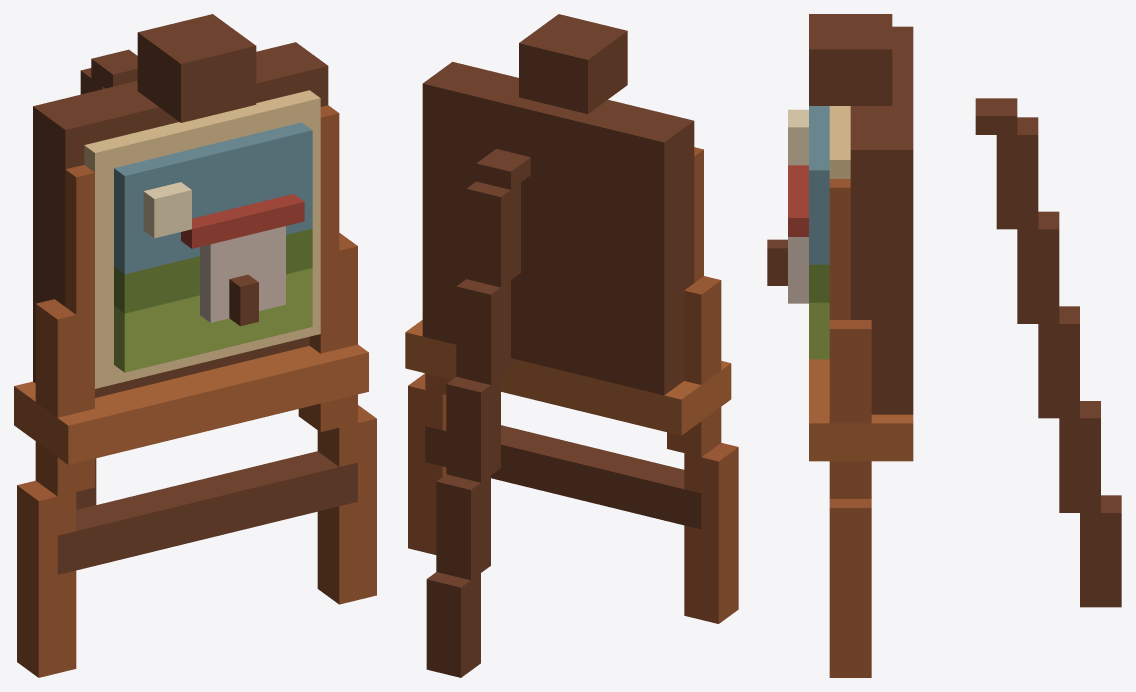
File: PaintingEasel_1x1.fbx
3 renders of one model, left to right at view 1: azimuth 30°, elevation 25°; view 2: azimuth 150°, elevation 25°; view 3: azimuth 270°, elevation 25°, orthographic. The views are drawn at different scales.
Visible parts, largest first — view 1: Easel_Front_Legs, Easel_Canvas_Shelf, Canvas_Back, Easel_Base_Crossbar, Canvas_Cloth, Painted_Sky, Easel_Top_Clamp, Painted_Field, Painted_Cottage_Wall, Painted_Hills, Painted_Cottage_Roof, Painted_Sun (+2 smaller); view 2: Canvas_Back, Easel_Back_Leg, Easel_Front_Legs, Easel_Base_Crossbar, Easel_Canvas_Shelf, Easel_Top_Clamp; view 3: Easel_Back_Leg, Canvas_Back, Easel_Front_Legs, Easel_Top_Clamp, Easel_Canvas_Shelf, Painted_Sky, Canvas_Cloth, Painted_Cottage_Roof, Painted_Cottage_Wall, Painted_Field, Painted_Sun, Painted_Cottage_Door (+1 smaller).
Part boxes in pixels (bbox=[...]): Easel_Front_Legs: bbox=[17, 105, 376, 677]; Easel_Canvas_Shelf: bbox=[14, 344, 368, 464]; Canvas_Back: bbox=[33, 42, 328, 397]; Easel_Base_Crossbar: bbox=[57, 451, 357, 574]; Canvas_Cloth: bbox=[84, 90, 320, 388]; Painted_Sky: bbox=[114, 122, 312, 274]; Easel_Top_Clamp: bbox=[137, 14, 256, 122]; Painted_Field: bbox=[114, 268, 312, 372]; Painted_Cottage_Wall: bbox=[200, 226, 285, 322]; Painted_Hills: bbox=[114, 228, 312, 313]; Painted_Cottage_Roof: bbox=[181, 194, 304, 248]; Painted_Sun: bbox=[143, 182, 191, 238]; Canvas_Back: bbox=[422, 61, 694, 395]; Easel_Back_Leg: bbox=[426, 149, 530, 677]; Easel_Front_Legs: bbox=[408, 147, 738, 623]; Easel_Base_Crossbar: bbox=[425, 425, 701, 529]; Easel_Canvas_Shelf: bbox=[405, 320, 731, 435]; Easel_Top_Clamp: bbox=[519, 14, 627, 113]; Easel_Back_Leg: bbox=[975, 98, 1121, 607]; Canvas_Back: bbox=[850, 26, 913, 414]; Easel_Front_Legs: bbox=[829, 179, 871, 677]; Easel_Top_Clamp: bbox=[809, 14, 892, 105]; Easel_Canvas_Shelf: bbox=[809, 359, 913, 461]; Painted_Sky: bbox=[809, 106, 829, 264]; Canvas_Cloth: bbox=[829, 106, 850, 178]; Painted_Cottage_Roof: bbox=[788, 165, 808, 236]; Painted_Cottage_Wall: bbox=[788, 237, 808, 303]; Painted_Field: bbox=[809, 302, 829, 359]; Painted_Sun: bbox=[788, 109, 808, 165]; Painted_Cottage_Door: bbox=[767, 239, 787, 285].
Bounding box in the file's own units: 90 × 150 × 85.
